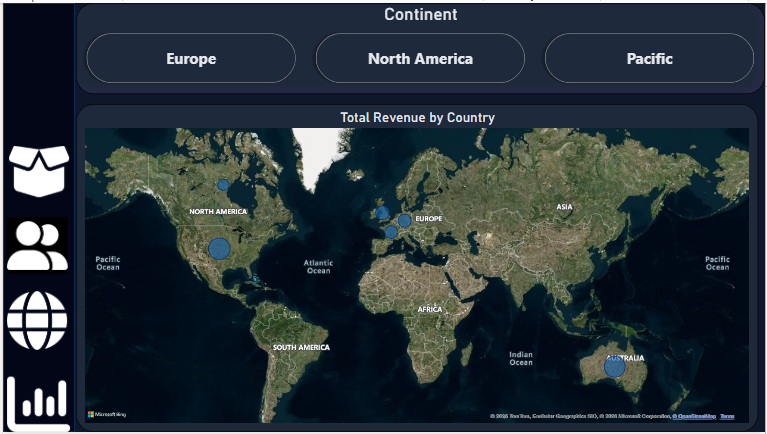

Layout of this report page (visuals, bound fields, positions):
{"tool":"powerbi","page":{"name":"region analysis","canvas":[1280,720],"ordinal":4},"visuals":[{"type":"advancedSlicerVisual","fields":{"Values":["Territory Lookup.Continent"]},"box":[148.8,0,1071.5,153.1],"z":0},{"type":"map","fields":{"Category":["Territory Lookup.Country"],"Size":["Measure table.Total Revenue"]},"box":[121.9,153.1,1146.6,566.9],"z":1000},{"type":"shape","box":[0,0,121.3,721.2],"z":2000},{"type":"actionButton","box":[6.7,626.6,105.8,94.1],"z":3000},{"type":"actionButton","box":[10.1,519.1,100.8,85.7],"z":4000},{"type":"actionButton","box":[10.1,404.8,100.8,99.1],"z":5000}]}

Visuals, with their boxes on the page's 1280x720 design canvas (x1, y1, x2, y2). These are canvas units, not pixel positions in the 767x434 screenshot, which may show the page scaled, cropped or inside an application window:
advancedSlicerVisual - Territory Lookup.Continent: bbox=[149, 0, 1220, 153]
map - Territory Lookup.Country x Measure table.Total Revenue: bbox=[122, 153, 1268, 720]
shape: bbox=[0, 0, 121, 721]
actionButton: bbox=[7, 627, 112, 721]
actionButton: bbox=[10, 519, 111, 605]
actionButton: bbox=[10, 405, 111, 504]
